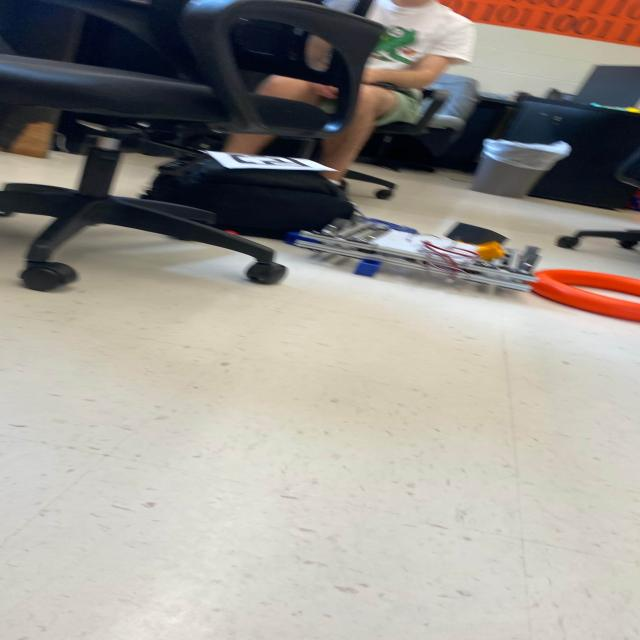blue-specimen: (354, 259, 382, 277), (283, 232, 307, 245)
yellow-specimen: (474, 241, 505, 261)
